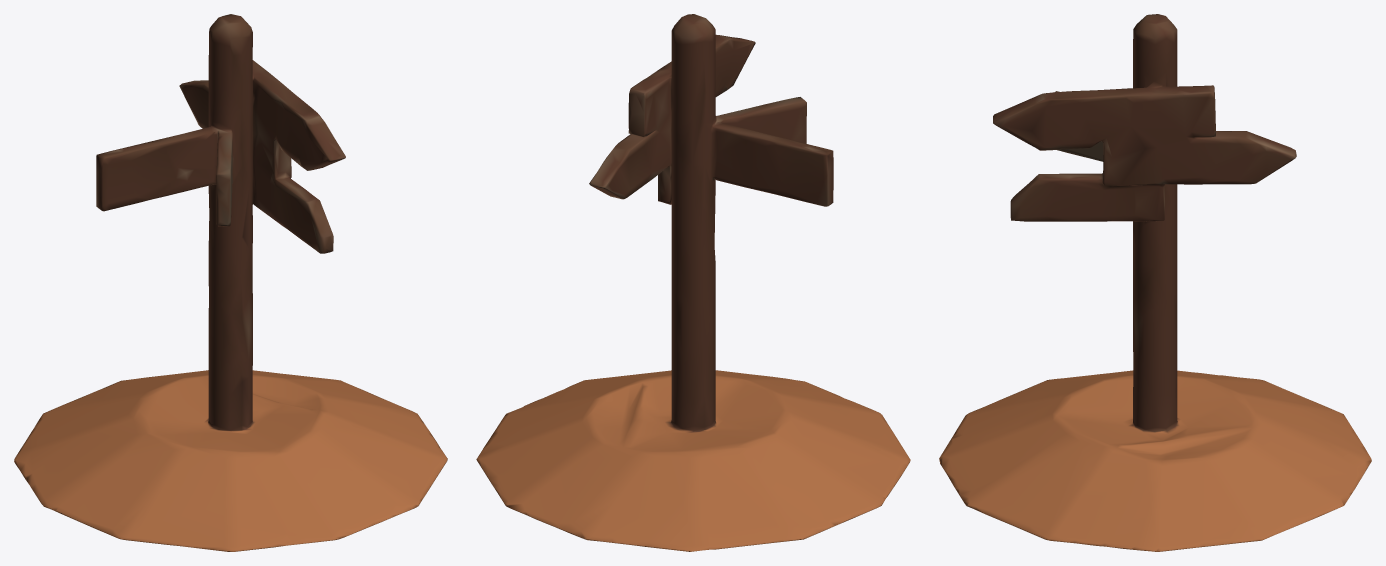
The model's file is gen3d-desert-signpost-lod0.glb.
3 renders of one model, left to right at view 1: azimuth 30°, elevation 25°; view 2: azimuth 150°, elevation 25°; view 3: azimuth 270°, elevation 25°, orthographic.
Visible parts, largest first — view 1: part_0; view 2: part_0; view 3: part_0.
Boxes of the visible parts, x1=… form: part_0: x1=14, y1=14, x2=447, y2=551; part_0: x1=476, y1=14, x2=910, y2=551; part_0: x1=939, y1=14, x2=1371, y2=551.
Bounding box in the file's own units: 0.8875 × 0.9999 × 0.8862.
